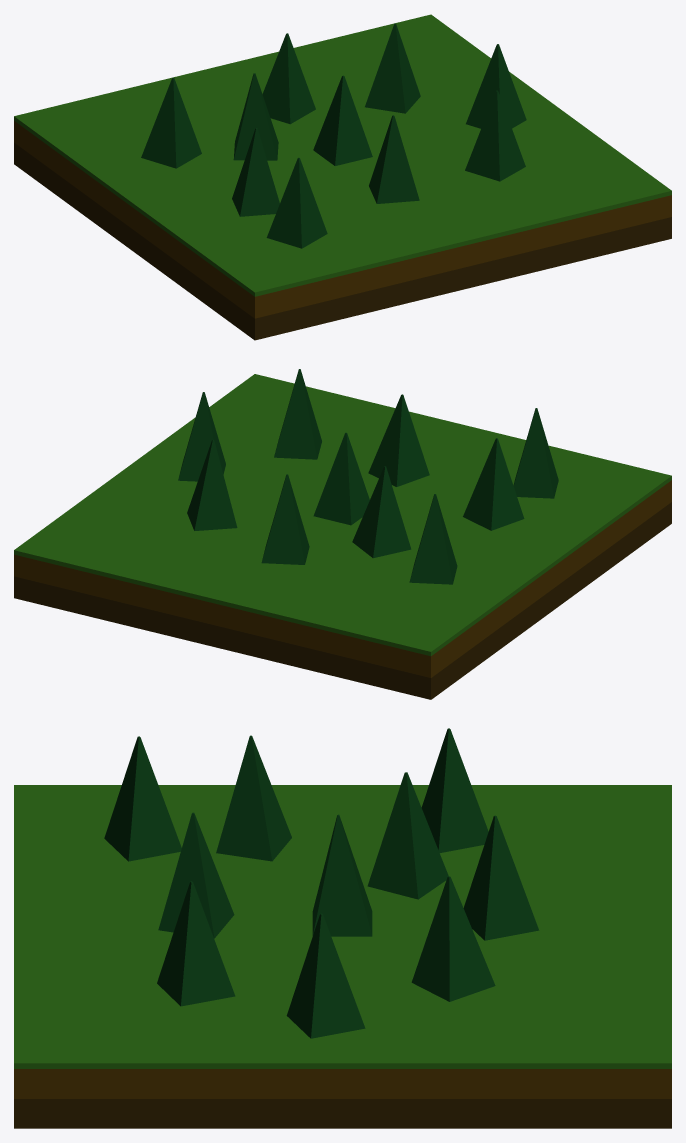
Rendered from splineForest1.glb.
3 views of the same model, one above another, from view 1: azimuth 30°, elevation 25°; view 2: azimuth 150°, elevation 25°; view 3: azimuth 270°, elevation 25° (orthographic). The views are drawn at different scales.
Parts seen in each view (by area): view 1: TopLayer, MiddleLayer, BottomLayer, Tree1 4, Tree1 9, Tree1 8, Tree1, Tree1 5, Tree1 3, Tree1 6, Tree1 7, Tree1 10 (+1 smaller); view 2: TopLayer, BottomLayer, MiddleLayer, Tree1 7, Tree1 2, Tree1 6, Tree1, Tree1 3, Tree1 5, Tree1 8, Tree1 4, Tree1 9 (+1 smaller); view 3: TopLayer, MiddleLayer, BottomLayer, Tree1 3, Tree1 2, Tree1 10, Tree1 9, Tree1 4, Tree1 7, Tree1 5, Tree1 8, Tree1 (+1 smaller).
Part boxes in pixels (x1,y1,x2,y2): TopLayer: (14,14,671,296); MiddleLayer: (14,121,671,318); BottomLayer: (14,142,671,340); Tree1 4: (465,90,525,181); Tree1 9: (266,157,327,248); Tree1 8: (141,77,201,168); Tree1: (313,75,372,165); Tree1 5: (262,33,315,124); Tree1 3: (365,23,420,113); Tree1 6: (369,115,419,203); Tree1 7: (232,128,279,216); Tree1 10: (466,44,526,128); TopLayer: (14,374,671,656); BottomLayer: (14,502,671,699); MiddleLayer: (14,480,671,677); Tree1 7: (463,438,524,530); Tree1 2: (352,466,411,558); Tree1 6: (368,394,429,486); Tree1: (313,432,369,525); Tree1 3: (187,440,237,530); Tree1 5: (261,474,309,564); Tree1 8: (409,494,457,584); Tree1 4: (274,369,321,459); Tree1 9: (513,408,558,498); TopLayer: (14,785,671,1068); MiddleLayer: (14,1069,671,1098); BottomLayer: (14,1099,671,1128); Tree1 3: (411,876,495,1001); Tree1 2: (367,772,448,899); Tree1 10: (286,913,365,1038); Tree1 9: (104,736,181,861); Tree1 4: (157,881,235,1006); Tree1 7: (216,735,291,861); Tree1 5: (463,815,539,940); Tree1 8: (421,728,488,852); Tree1: (312,814,372,936).
Size of the model in its own units: 1 by 0.2909 by 1.
